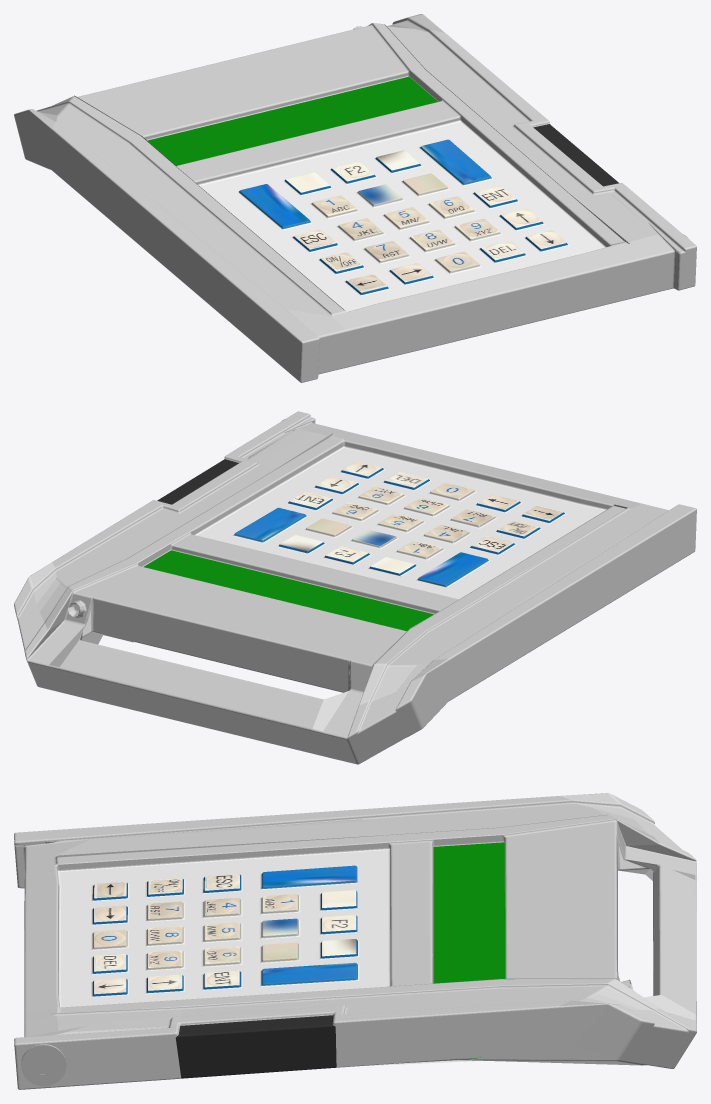
File: xomt.glb
3 renders of one model, top to bottom at view 1: azimuth 30°, elevation 25°; view 2: azimuth 150°, elevation 25°; view 3: azimuth 270°, elevation 25°, orthographic. The views are drawn at different scales.
Parts seen in each view (by area): view 1: Plane.001; view 2: Plane.001; view 3: Plane.001, Circle.
Boxes of the visible parts, left/top/right/bottom form: Plane.001: left=14, top=14, right=696, bottom=382; Plane.001: left=14, top=411, right=696, bottom=764; Plane.001: left=14, top=793, right=696, bottom=1089; Circle: left=21, top=1044, right=66, bottom=1086.
Size of the model in its own units: 3.14 by 0.5915 by 4.23.
32 materials, 23 textured.
